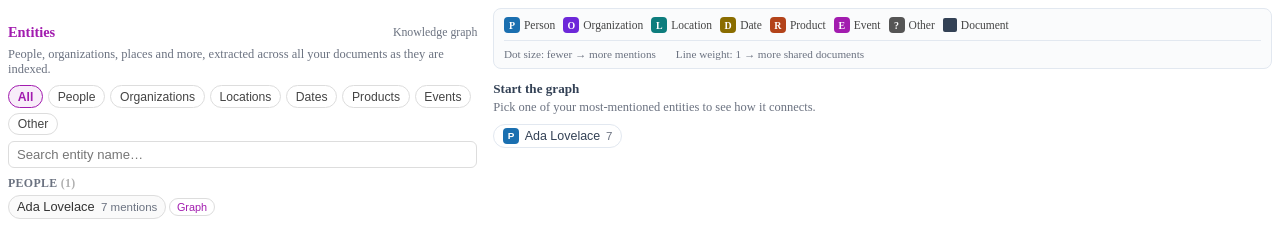
Test case: surfaces a graph load error
Click the button with test id "entity-open-in-graph": (192, 207) [170,198,214,216]
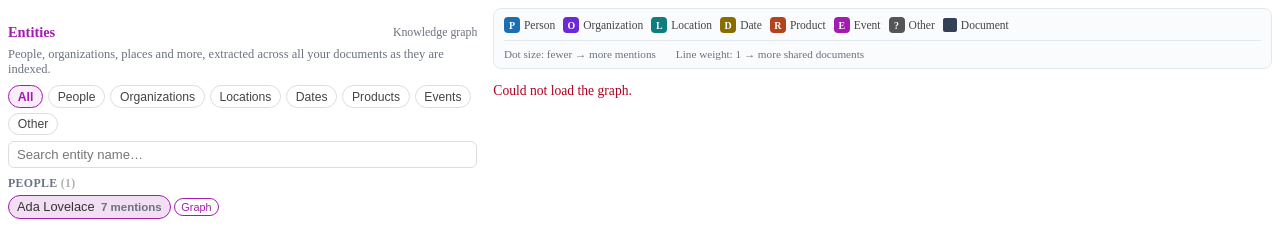
expect the message "Could not load the graph." is shown: met, box [493,83,632,98]
